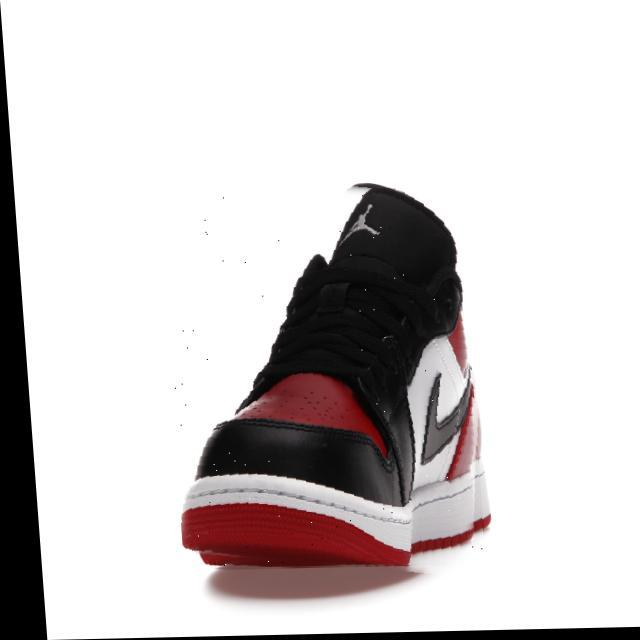J1_MateComp: (180, 181, 492, 568)
J1_StitchPattern: (179, 464, 491, 556), (236, 252, 414, 410), (273, 272, 402, 377), (181, 471, 411, 527), (417, 363, 474, 466), (397, 389, 419, 506), (418, 370, 445, 464), (335, 198, 383, 248)
